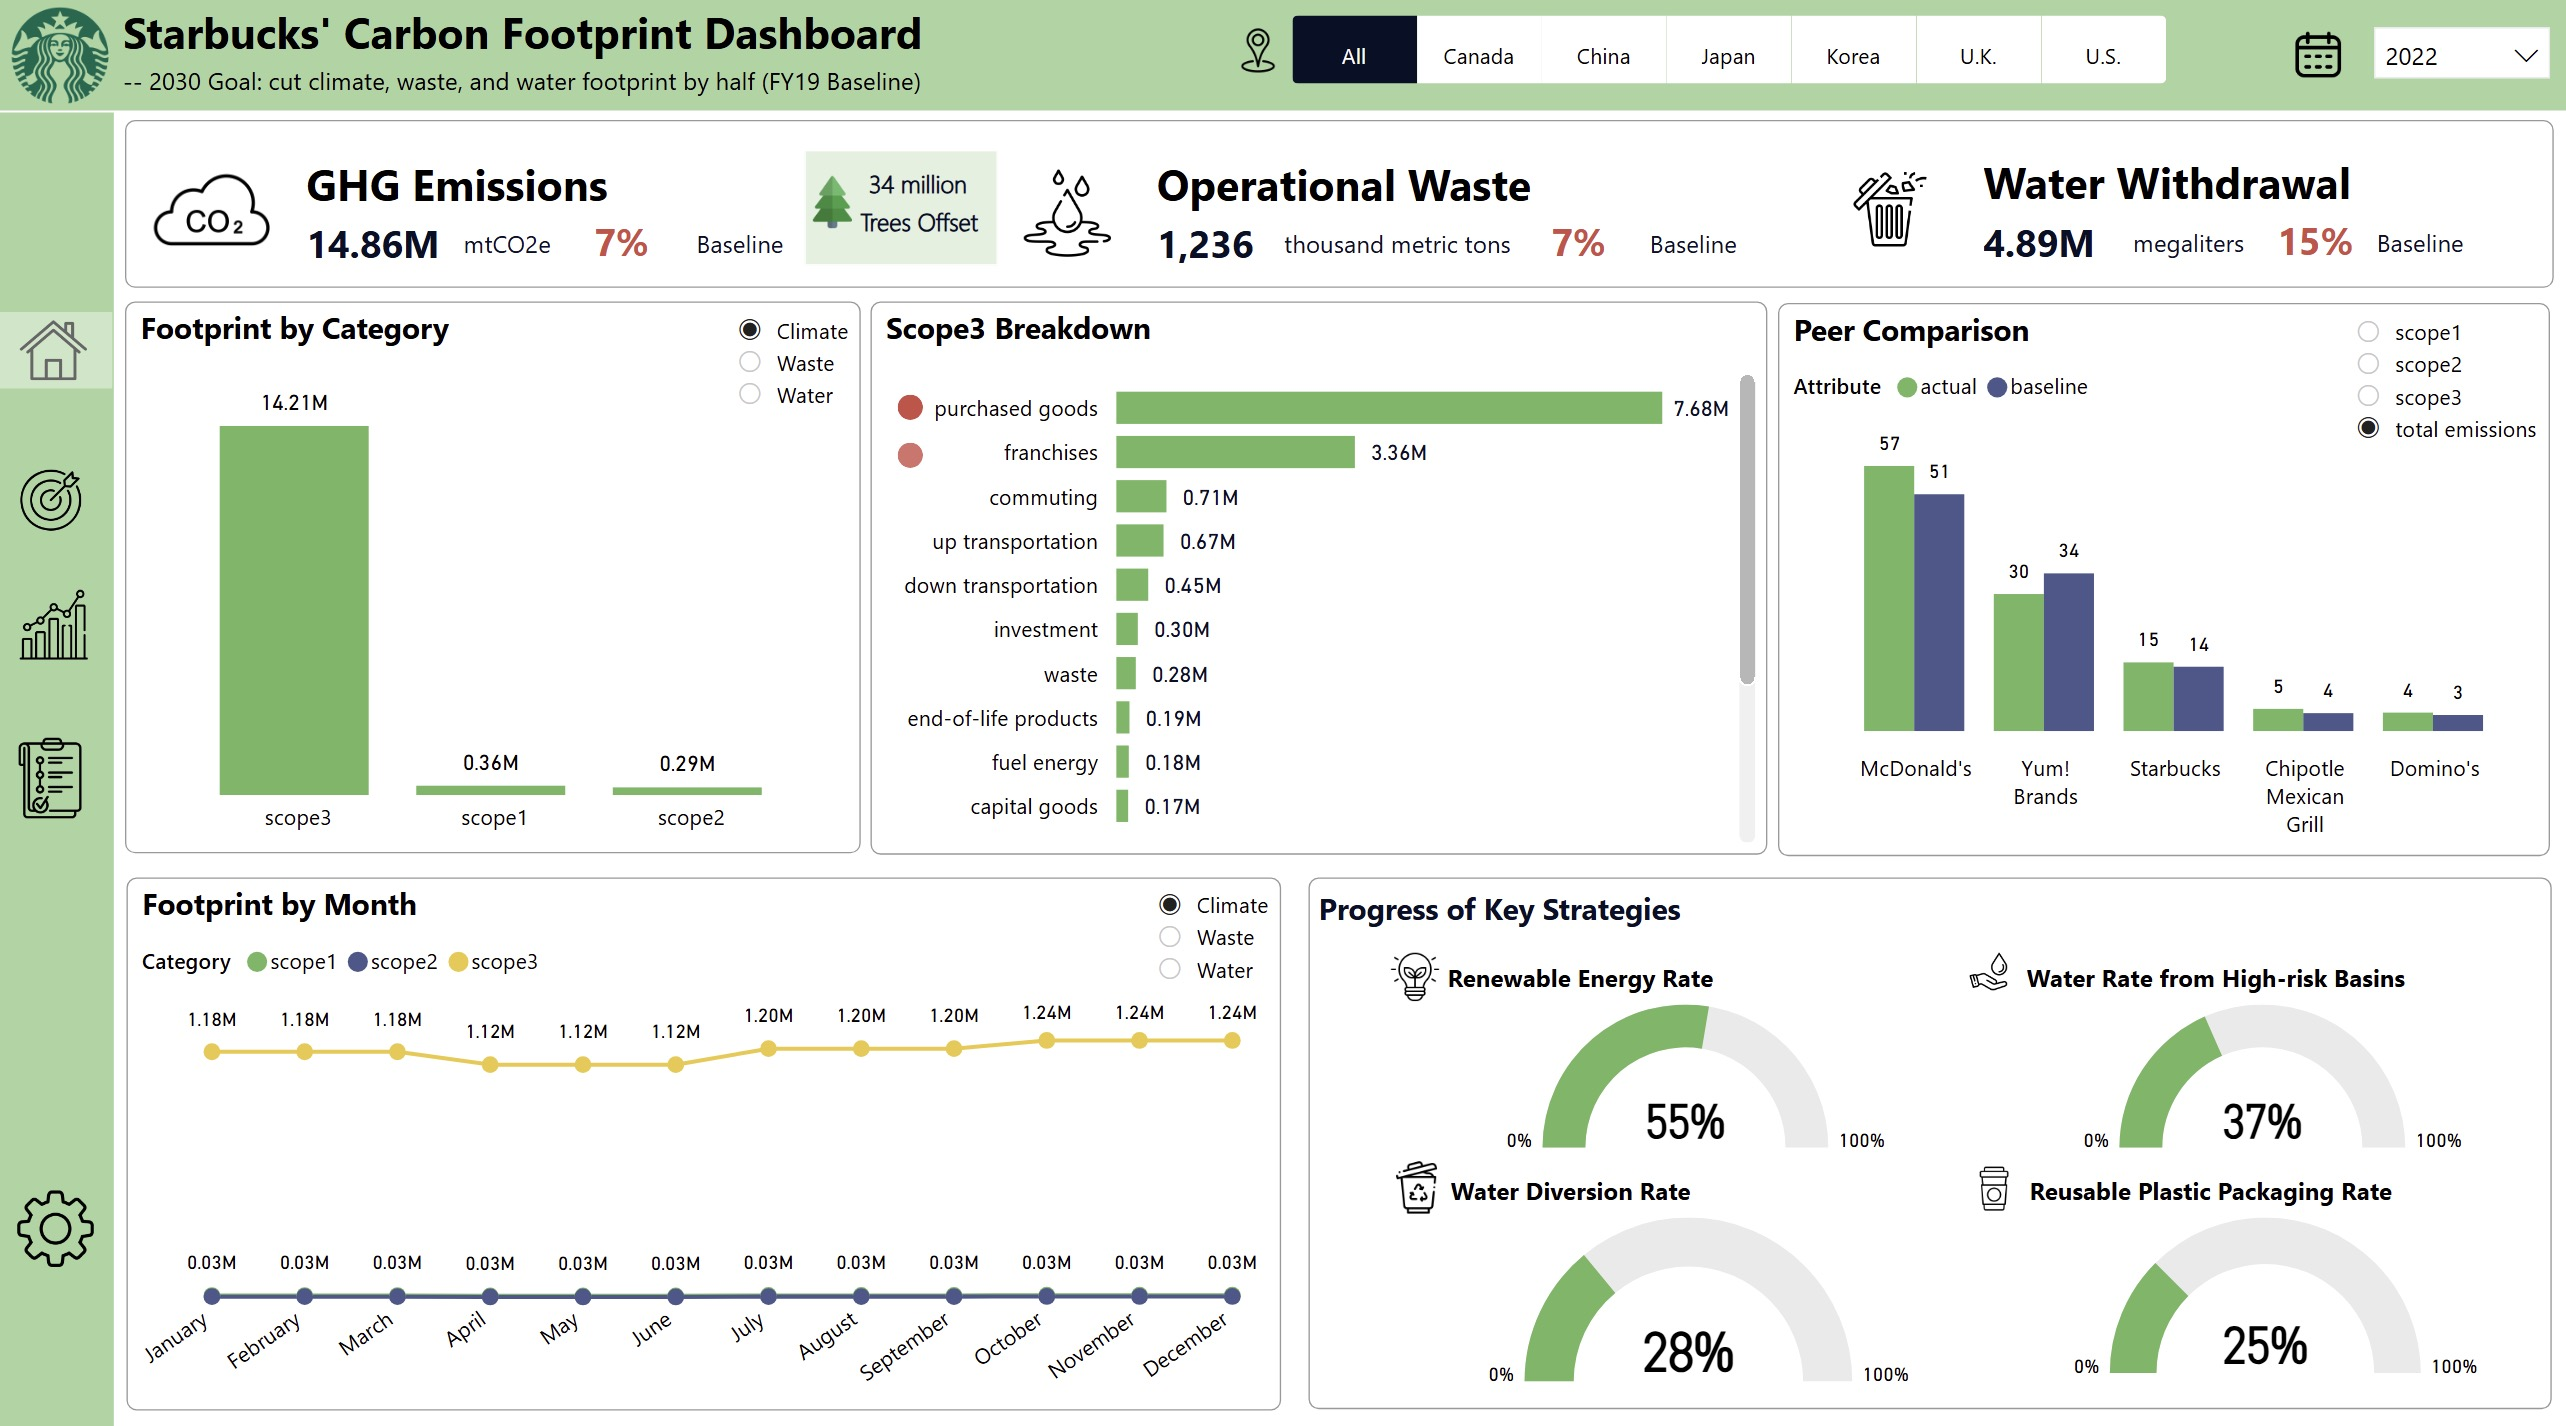

Layout of this report page (visuals, bound fields, positions):
{"tool":"powerbi","page":{"name":"Page 1","canvas":[1280,720],"ordinal":0},"visuals":[{"type":"shape","box":[65.5,64.1,1205.9,83.4],"z":0},{"type":"clusteredColumnChart","title":"Peer Comparison","fields":{"Y":["Sum(peers data.Value)"],"Category":["peers data.company"],"Series":["peers data.Attribute"]},"box":[886.7,154.3,383.6,274.5],"z":1000,"group":"g2"},{"type":"shape","box":[652.9,440.3,617.2,264.2],"z":1000},{"type":"clusteredColumnChart","title":"Footprint by Category","fields":{"Category":["yearly data.Category"],"Y":["Sum(yearly data.Value)"]},"box":[65.9,154.3,365.3,274.1],"z":2000,"group":"g1"},{"type":"clusteredBarChart","title":"Scope3 Breakdown","fields":{"Category":["Scope3.Attribute"],"Y":["Sum(Scope3.Value)"]},"box":[435.5,154.4,445.5,274.8],"z":2000},{"type":"slicer","fields":{"Values":["peers data.Scope"]},"box":[1161.8,146.4,111.7,85.7],"z":3000,"group":"g2"},{"type":"lineChart","title":"Footprint by Month","fields":{"Y":["Sum(monthly data.Value)"],"Series":["monthly data.Category"],"Category":["monthly data.month.Variation.Date Hierarchy.Month"]},"box":[66.3,440.2,573.5,264.4],"z":3000},{"type":"textbox","box":[0,60,60,660],"z":4000},{"type":"shape","box":[0,0,1280.4,59.6],"z":5000},{"type":"textbox","box":[59.6,0,529.6,59.6],"z":6000},{"type":"slicer","fields":{"Values":["Scope3.year"]},"box":[1172.7,0,107.3,60],"z":7000},{"type":"advancedSlicerVisual","fields":{"Values":["Dim_region.region"]},"box":[639.8,6.7,446.9,44.7],"z":8000},{"type":"gauge","title":"Renewable Energy Rate","fields":{"Y":["Avg(Key metrics.Renewable Energy Rate)"]},"box":[717.4,481.6,256,102],"z":9000},{"type":"gauge","title":"Water Rate from High-risk Basins","fields":{"Y":["Avg(Key metrics.Water Rate From High-Risk Basins)"]},"box":[1004.5,481.6,253.9,102],"z":10000},{"type":"slicer","fields":{"Values":["yearly data.Type"]},"box":[358,146.2,93.1,84.9],"z":11000,"group":"g1"},{"type":"gauge","title":"Water Diversion Rate","fields":{"Y":["Avg(Key metrics.Water Diversion Rate)"]},"box":[718.9,587.5,256,112.4],"z":11000},{"type":"cardVisual","fields":{"Data":["Avg(Key metrics.total water withdrawal)"]},"box":[971.3,63.3,291.8,83.4],"z":12000,"group":"g7"},{"type":"gauge","title":"Reusable Plastic Packaging Rate","fields":{"Y":["Avg(Key metrics.Reusable Plastic Packaging Rate)"]},"box":[1006,587.5,253.9,108.2],"z":12000},{"type":"cardVisual","fields":{"Data":["Avg(Key metrics.total emissions)"]},"box":[138.3,64,327,83.4],"z":13000,"group":"g8"},{"type":"textbox","box":[653.2,440.2,214.5,51.4],"z":13000},{"type":"image","box":[1136.4,14.5,36.4,32.7],"z":14000},{"type":"image","box":[0,0,66,63.9],"z":15000},{"type":"image","box":[589.1,10.9,78.2,36.4],"z":16000},{"type":"cardVisual","fields":{"Data":["Key metrics.Total_Emissions_Full"]},"box":[561,64.1,320.2,83.4],"z":17000,"group":"g6"},{"type":"image","box":[973.3,472.1,34.5,29.1],"z":17000},{"type":"image","box":[506.5,76.3,53.4,68.2],"z":18000,"group":"g4"},{"type":"image","box":[665.7,576,81.8,36.4],"z":18000},{"type":"image","box":[66.3,72.8,85.1,70.7],"z":19000,"group":"g3"},{"type":"image","box":[913.9,83.1,55.5,49.9],"z":19000,"group":"g5"},{"type":"image","box":[951.1,577.9,85.5,32.7],"z":19000},{"type":"image","box":[680.5,472.1,50.9,34.5],"z":20000},{"type":"group","id":"g1","title":"Group 1","box":[65.9,146.2,385.2,282.2],"z":21000},{"type":"group","id":"g2","title":"Group 2","box":[886.7,146.4,386.8,282.5],"z":22000},{"type":"image","box":[0,156.7,60,43.3],"z":23000},{"type":"image","box":[3.3,363.3,50,55],"z":24000},{"type":"image","box":[6.7,586.7,48.3,55],"z":25000},{"type":"textbox","box":[1058,108.4,213.5,29],"z":26000,"group":"g7"},{"type":"image","box":[1.7,291.7,56.7,45],"z":26000},{"type":"textbox","box":[635.9,109.5,244.6,29],"z":27000,"group":"g6"},{"type":"image","box":[0,230,56.7,45],"z":27000},{"type":"textbox","box":[228.6,109.4,180.2,31.3],"z":28000,"group":"g8"},{"type":"shape","box":[0,159.3,59.5,38.2],"z":28000},{"type":"slicer","fields":{"Values":["monthly data.Type"]},"box":[566.1,431.3,87.1,69.3],"z":29000},{"type":"group","id":"g3","title":"Group 4","box":[66.3,64,399,83.4],"z":30000},{"type":"group","id":"g4","title":"Group 6","box":[506.5,64.1,374.7,83.4],"z":31000},{"type":"group","id":"g5","title":"Group 8","box":[913.9,63.3,357.6,83.4],"z":32000},{"type":"textbox","box":[403,79,96.1,57.4],"z":32000,"group":"g9"},{"type":"image","box":[398.5,80.5,36.5,48.4],"z":33000,"group":"g9"},{"type":"shape","box":[449.1,200.4,12.7,12.7],"z":33000},{"type":"shape","box":[449.1,224.2,12.7,12.7],"z":34000},{"type":"cardVisual","fields":{"Data":["Sum(Key metrics.emission change)"]},"box":[281.5,91.6,88.6,62.6],"z":35000},{"type":"group","id":"g6","title":"Group 5","box":[561,64.1,320.2,83.4],"z":35001,"group":"g4"},{"type":"group","id":"g7","title":"Group 7","box":[971.3,63.3,300.2,83.4],"z":35003,"group":"g5"},{"type":"cardVisual","fields":{"Data":["Sum(Key metrics.waste change)"]},"box":[756.8,85.7,88.6,74.5],"z":36000},{"type":"shape","box":[277.9,119.9,12.9,15.9],"z":36003,"group":"g3"},{"type":"cardVisual","fields":{"Data":["Sum(Key metrics.water change)"]},"box":[1117.3,84.9,88.6,74.5],"z":37000},{"type":"group","id":"g8","title":"Group 3","box":[138.3,64,327,83.4],"z":37001,"group":"g3"},{"type":"group","id":"g9","title":"Group 9","box":[398.5,79,100.6,57.4],"z":38000}]}

Visuals, with their boxes in screenshot pixels (x1, y1, x2, y2), scaled from the page's 1280x720 canvas onto the 2566x1426 screenshot:
shape: box=[131, 127, 2549, 292]
"Peer Comparison" clusteredColumnChart: box=[1778, 306, 2547, 849]
shape: box=[1309, 872, 2546, 1395]
"Footprint by Category" clusteredColumnChart: box=[132, 306, 864, 848]
"Scope3 Breakdown" clusteredBarChart: box=[873, 306, 1766, 850]
slicer - peers data.Scope: box=[2329, 290, 2553, 460]
"Footprint by Month" lineChart: box=[133, 872, 1283, 1395]
textbox: box=[0, 119, 120, 1425]
shape: box=[0, 0, 2565, 118]
textbox: box=[119, 0, 1181, 118]
slicer - Scope3.year: box=[2351, 0, 2565, 119]
advancedSlicerVisual - Dim_region.region: box=[1283, 13, 2178, 102]
"Renewable Energy Rate" gauge: box=[1438, 954, 1951, 1156]
"Water Rate from High-risk Basins" gauge: box=[2014, 954, 2523, 1156]
slicer - yearly data.Type: box=[718, 290, 904, 458]
"Water Diversion Rate" gauge: box=[1441, 1164, 1954, 1386]
cardVisual - Avg(Key metrics.total water withdrawal): box=[1947, 125, 2532, 291]
"Reusable Plastic Packaging Rate" gauge: box=[2017, 1164, 2526, 1378]
cardVisual - Avg(Key metrics.total emissions): box=[277, 127, 933, 292]
textbox: box=[1309, 872, 1739, 974]
image: box=[2278, 29, 2351, 93]
image: box=[0, 0, 132, 127]
image: box=[1181, 22, 1338, 94]
cardVisual - Key metrics.Total_Emissions_Full: box=[1125, 127, 1767, 292]
image: box=[1951, 935, 2020, 993]
image: box=[1015, 151, 1122, 286]
image: box=[1335, 1141, 1499, 1213]
image: box=[133, 144, 304, 284]
image: box=[1832, 165, 1943, 263]
image: box=[1907, 1145, 2078, 1209]
image: box=[1364, 935, 1466, 1003]
"Group 1" group: box=[132, 290, 904, 848]
"Group 2" group: box=[1778, 290, 2553, 849]
image: box=[0, 310, 120, 396]
image: box=[7, 720, 107, 828]
image: box=[13, 1162, 110, 1271]
textbox: box=[2121, 215, 2549, 272]
image: box=[3, 578, 117, 667]
textbox: box=[1275, 217, 1765, 274]
image: box=[0, 456, 114, 545]
textbox: box=[458, 217, 820, 279]
shape: box=[0, 316, 119, 391]
slicer - monthly data.Type: box=[1135, 854, 1309, 991]
"Group 4" group: box=[133, 127, 933, 292]
"Group 6" group: box=[1015, 127, 1767, 292]
"Group 8" group: box=[1832, 125, 2549, 291]
textbox: box=[808, 156, 1001, 270]
image: box=[799, 159, 872, 255]
shape: box=[900, 397, 926, 422]
shape: box=[900, 444, 926, 469]
cardVisual - Sum(Key metrics.emission change): box=[564, 181, 742, 305]
"Group 5" group: box=[1125, 127, 1767, 292]
"Group 7" group: box=[1947, 125, 2549, 291]
cardVisual - Sum(Key metrics.waste change): box=[1517, 170, 1695, 317]
shape: box=[557, 237, 583, 269]
cardVisual - Sum(Key metrics.water change): box=[2240, 168, 2417, 316]
"Group 3" group: box=[277, 127, 933, 292]
"Group 9" group: box=[799, 156, 1001, 270]
